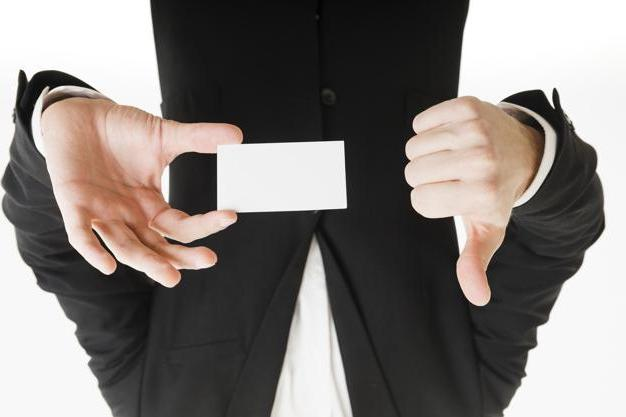thumbsdown: (403, 96, 505, 306)
